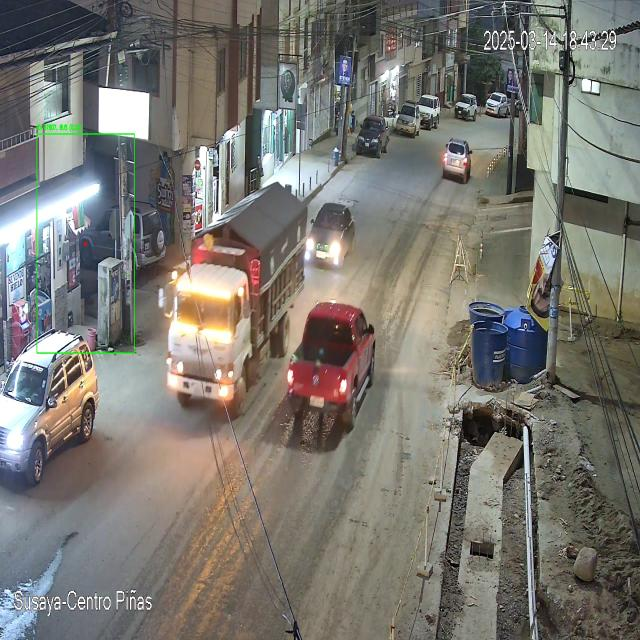CMT: (286, 302, 376, 434)
SED: (304, 202, 356, 271)
TRUCK: (164, 184, 306, 416)
